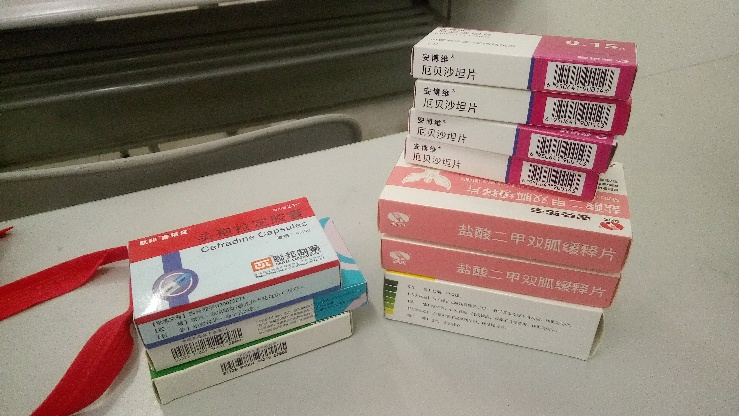pillbox: (130, 203, 339, 321), (376, 191, 634, 267), (382, 272, 604, 358), (139, 284, 373, 365), (150, 317, 359, 399), (382, 235, 620, 307), (411, 22, 636, 96), (407, 108, 617, 172), (411, 75, 633, 135), (404, 134, 596, 198)
